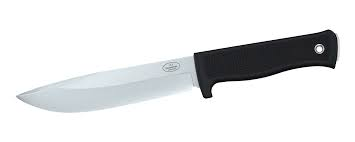knife: (3, 24, 346, 121)
